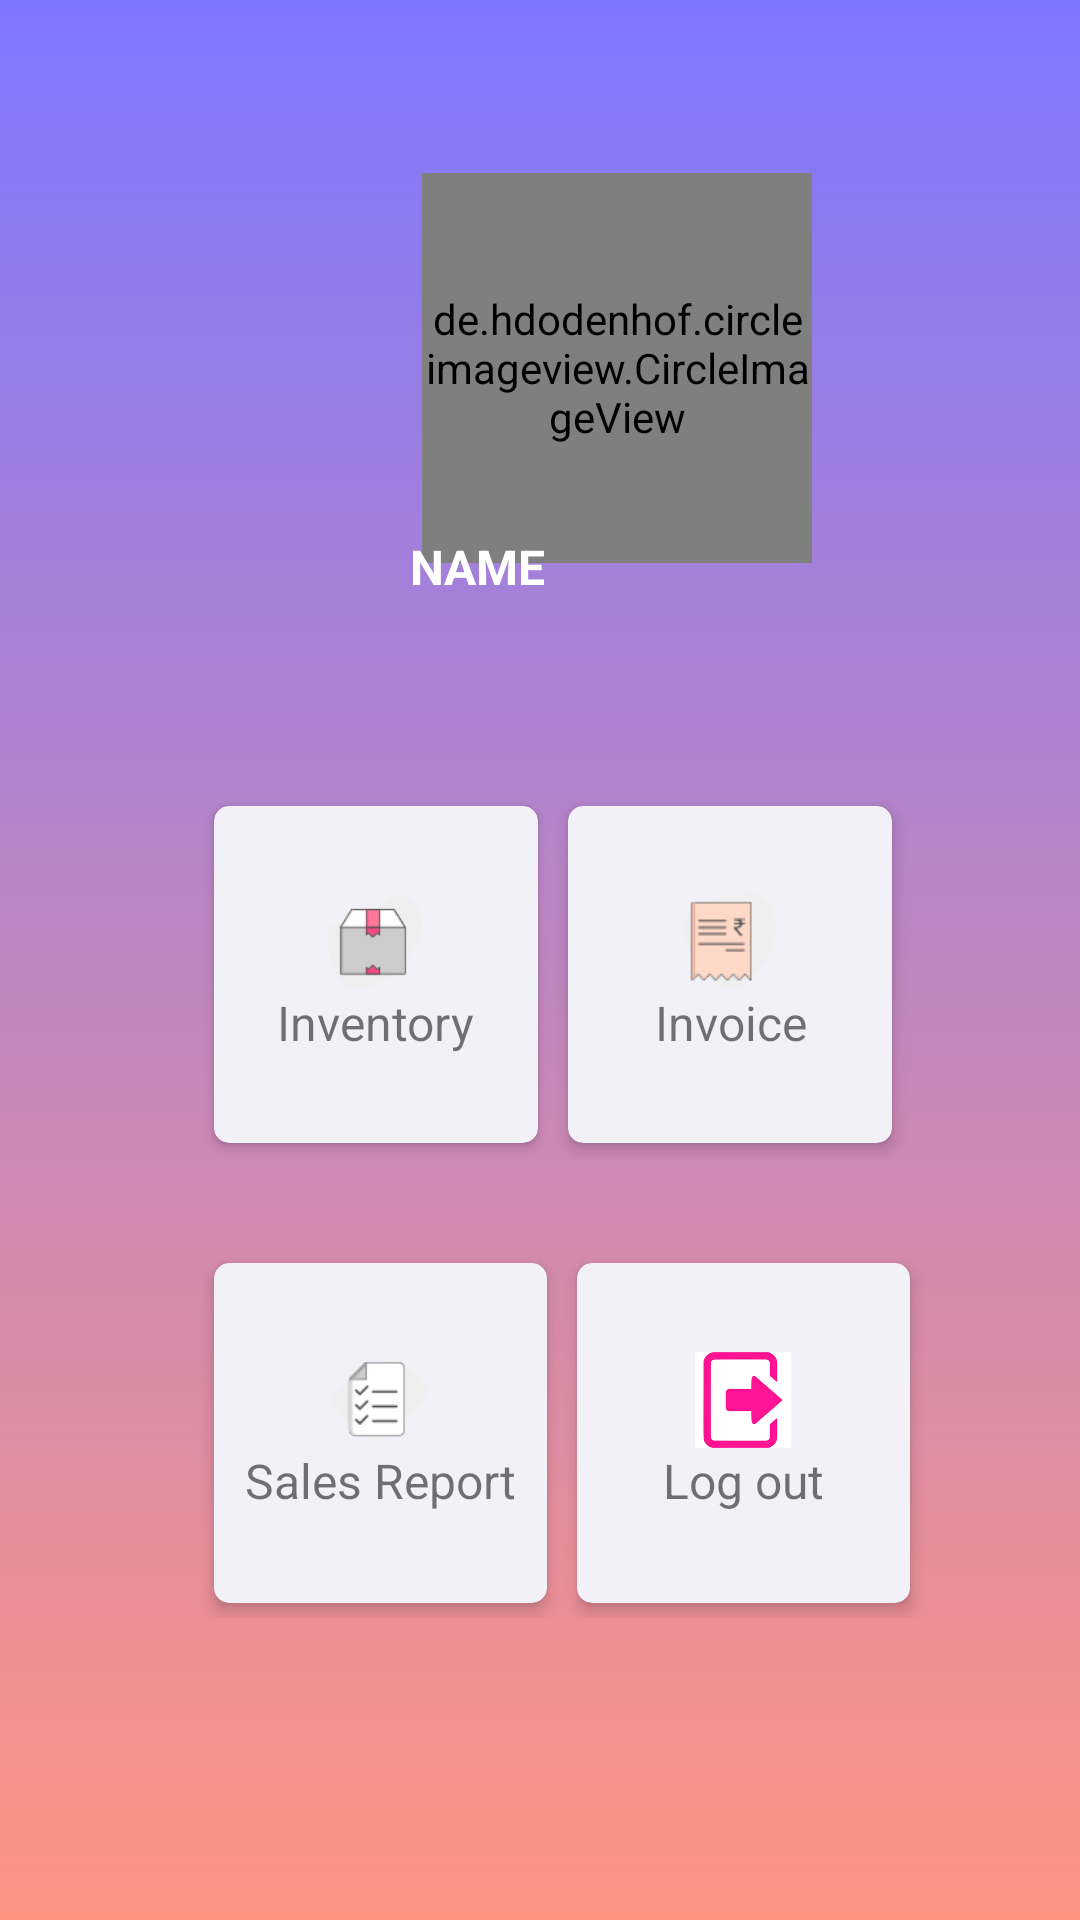

Icons on this 1080 × 1920 Android screen, each with the point to tap as (x=x, y=y):
stock: (x=373, y=942)
